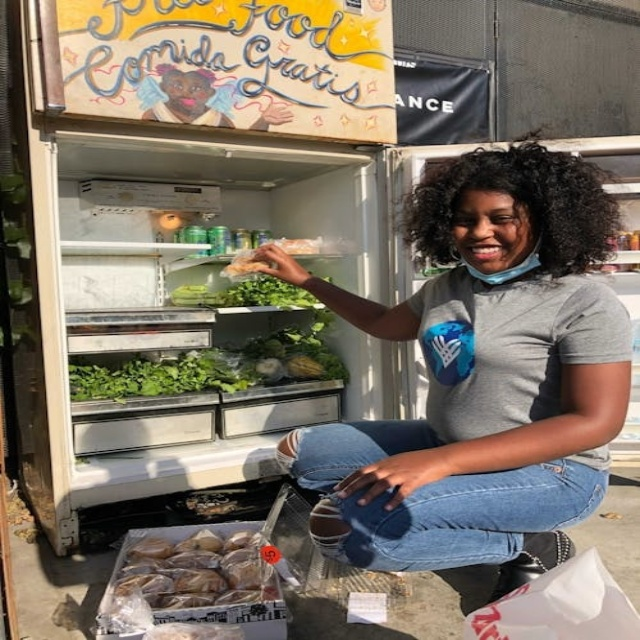Sin_gafas: (449, 206, 516, 226)
Sin_guantes: (334, 441, 454, 511), (244, 240, 306, 287), (260, 103, 295, 125)
Sin_mascara: (460, 239, 511, 266)
